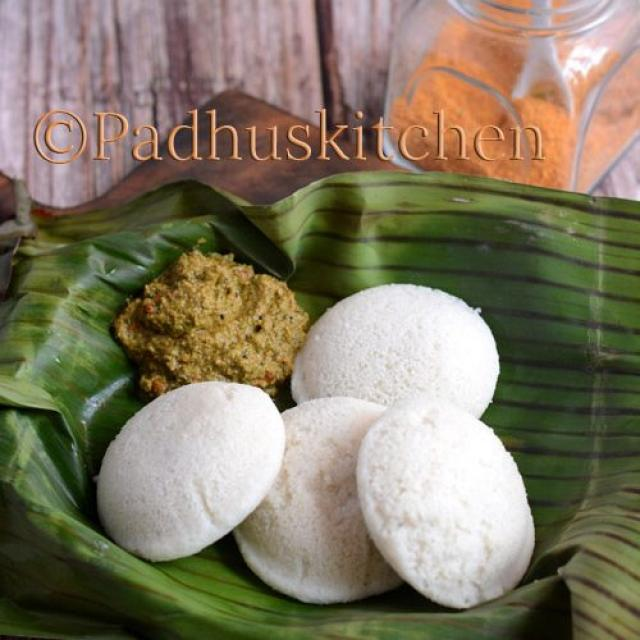chutney: (143, 269, 287, 376)
idli: (233, 394, 448, 606), (357, 392, 543, 614), (96, 382, 285, 556), (292, 282, 502, 432)
